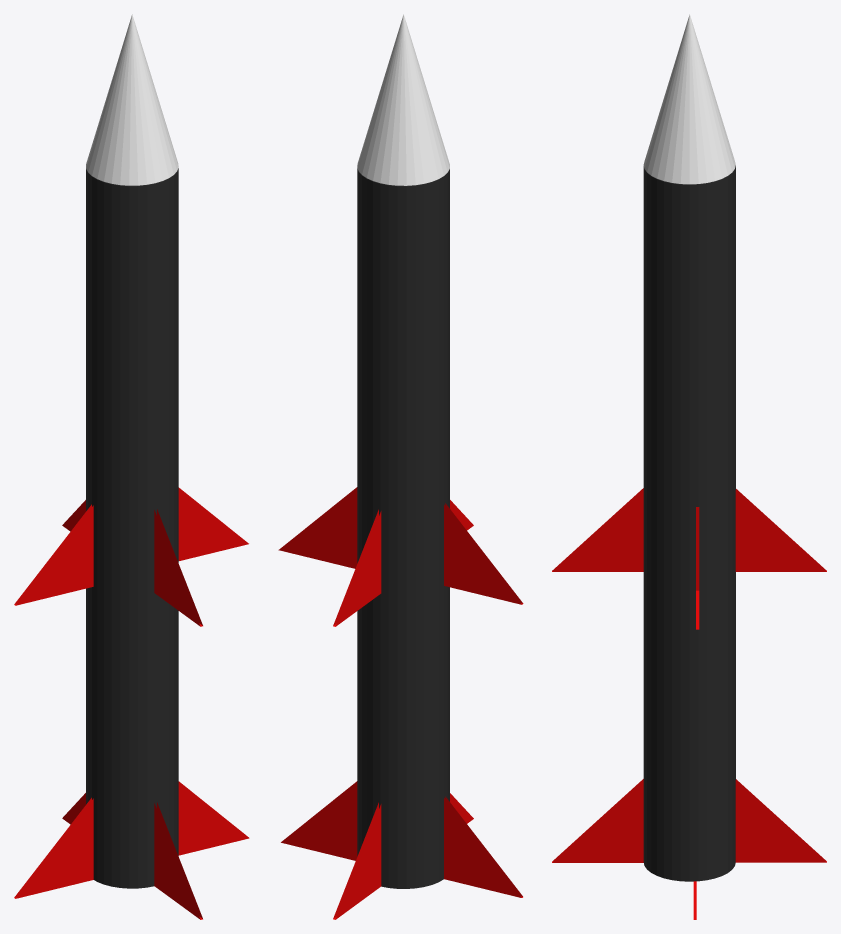
File: missile.obj
3 renders of one model, left to right at view 1: azimuth 30°, elevation 25°; view 2: azimuth 150°, elevation 25°; view 3: azimuth 270°, elevation 25°, orthographic.
Visible parts, largest first — view 1: Cylinder_Cylinder.003, Cone, Cube.005_Cube.007, Cube.004_Cube.006, Cube.003_Cube.005, Cube.001_Cube.003, Cube.006_Cube.010, Cube.002_Cube.009; view 2: Cylinder_Cylinder.003, Cone, Cube.004_Cube.006, Cube.005_Cube.007, Cube.001_Cube.003, Cube.003_Cube.005, Cube.007_Cube.011, Cube.000_Cube.008; view 3: Cylinder_Cylinder.003, Cone, Cube.007_Cube.011, Cube.006_Cube.010, Cube.002_Cube.009, Cube.000_Cube.008.
Part boxes in pixels (x1,y1,x2,y2): Cylinder_Cylinder.003: (86,168,178,888); Cone: (86,14,178,185); Cube.005_Cube.007: (14,797,93,898); Cube.004_Cube.006: (14,504,93,605); Cube.003_Cube.005: (178,781,249,855); Cube.001_Cube.003: (178,487,248,560); Cube.006_Cube.010: (154,802,202,919); Cube.002_Cube.009: (154,509,202,626); Cylinder_Cylinder.003: (357,168,449,888); Cone: (357,14,449,185); Cube.004_Cube.006: (444,503,523,604); Cube.005_Cube.007: (444,796,522,897); Cube.001_Cube.003: (278,487,357,568); Cube.003_Cube.005: (281,781,357,860); Cube.007_Cube.011: (333,802,381,919); Cube.000_Cube.008: (333,509,381,626); Cylinder_Cylinder.003: (643,165,735,881); Cone: (643,14,735,184); Cube.007_Cube.011: (735,779,826,862); Cube.006_Cube.010: (552,779,643,862); Cube.002_Cube.009: (552,488,643,571); Cube.000_Cube.008: (735,489,826,571).
Bounding box in the file's own units: 1.07 × 3.65 × 1.07.
